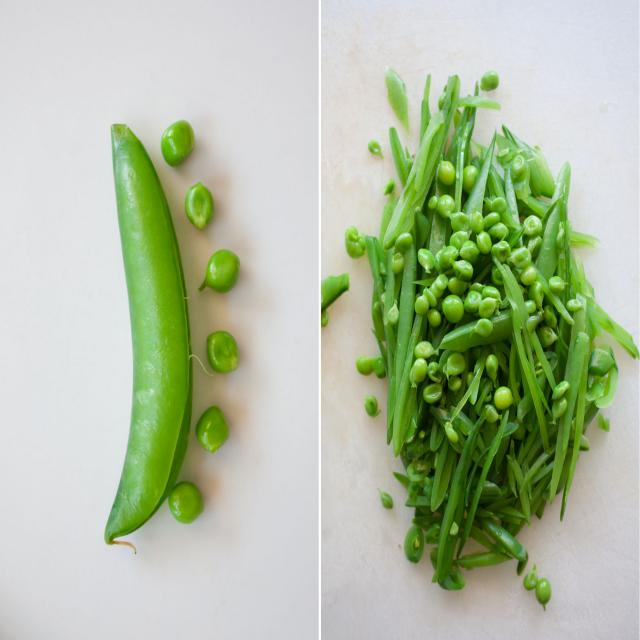pea: (415, 161, 559, 428), (197, 247, 245, 461), (163, 117, 215, 233)
